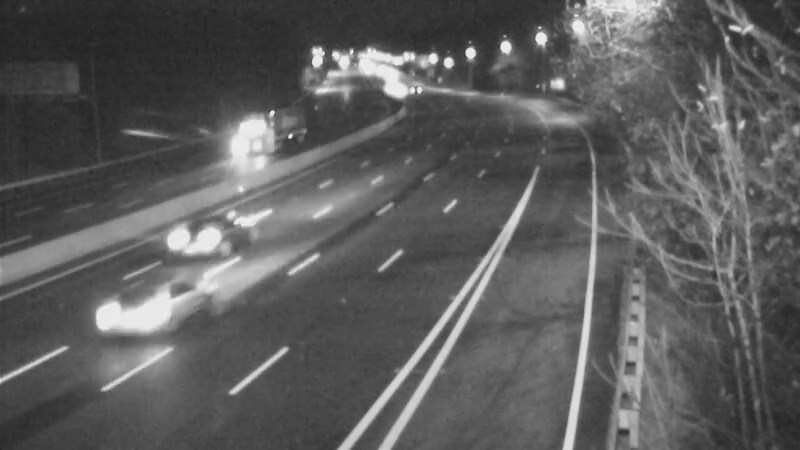vehicle: (83, 261, 193, 371), (167, 196, 247, 276), (367, 59, 417, 109), (391, 62, 441, 112), (221, 106, 271, 156)
